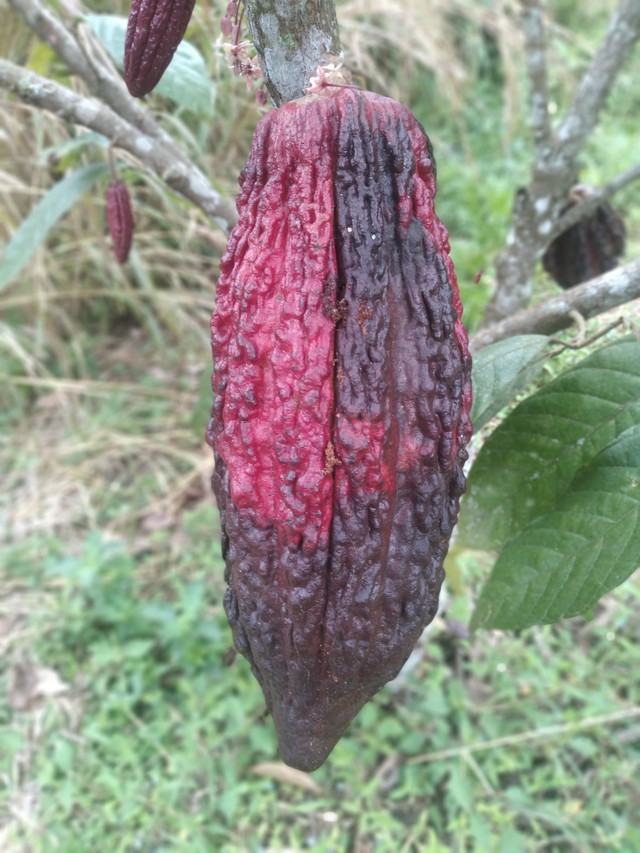phytophthora palmivora: (197, 79, 487, 777)
